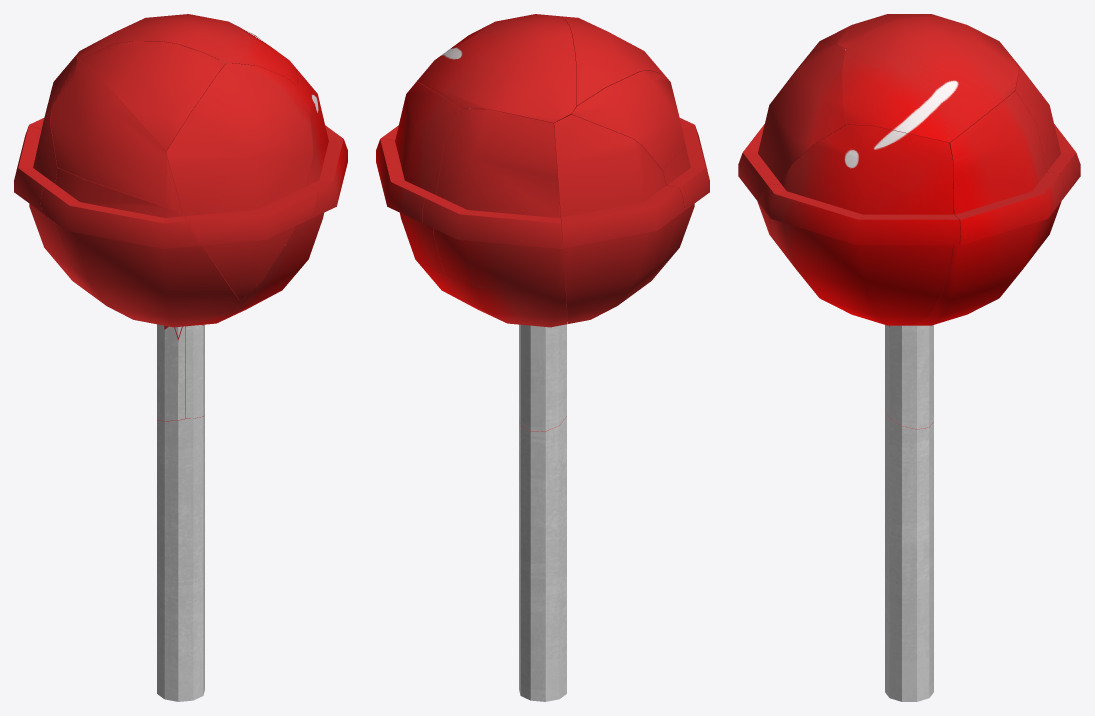
The model's file is JupaJubBreak.fbx.
3 views of the same model, side by side, from view 1: azimuth 30°, elevation 25°; view 2: azimuth 150°, elevation 25°; view 3: azimuth 270°, elevation 25° (orthographic).
Visible parts, largest first — view 1: Jupajub_cell.002, Jupajub_cell.003, Jupajub_cell.005, Jupajub_cell, Jupajub_cell.004, Jupajub_cell.007, Jupajub_cell.006, Jupajub_cell.001, Jupajub_cell.009, Jupajub_cell.008; view 2: Jupajub_cell.009, Jupajub_cell.001, Jupajub_cell.005, Jupajub_cell.006, Jupajub_cell.008, Jupajub_cell, Jupajub_cell.004, Jupajub_cell.003; view 3: Jupajub_cell.007, Jupajub_cell.008, Jupajub_cell.006, Jupajub_cell.005, Jupajub_cell.002, Jupajub_cell.009, Jupajub_cell.004.
Part boxes in pixels (x1=…): Jupajub_cell.002: x1=166, y1=63, x2=318, y2=300; Jupajub_cell.003: x1=40, y1=168, x2=239, y2=337; Jupajub_cell.005: x1=157, y1=414, x2=204, y2=701; Jupajub_cell: x1=50, y1=59, x2=182, y2=212; Jupajub_cell.004: x1=83, y1=41, x2=226, y2=151; Jupajub_cell.007: x1=212, y1=69, x2=347, y2=323; Jupajub_cell.006: x1=76, y1=14, x2=297, y2=85; Jupajub_cell.001: x1=14, y1=55, x2=95, y2=297; Jupajub_cell.009: x1=29, y1=118, x2=185, y2=421; Jupajub_cell.008: x1=185, y1=324, x2=204, y2=418; Jupajub_cell.009: x1=422, y1=108, x2=567, y2=431; Jupajub_cell.001: x1=554, y1=114, x2=684, y2=323; Jupajub_cell.005: x1=519, y1=416, x2=566, y2=701; Jupajub_cell.006: x1=417, y1=14, x2=576, y2=132; Jupajub_cell.008: x1=376, y1=81, x2=525, y2=427; Jupajub_cell: x1=571, y1=70, x2=685, y2=170; Jupajub_cell.004: x1=561, y1=16, x2=663, y2=107; Jupajub_cell.003: x1=641, y1=118, x2=709, y2=288; Jupajub_cell.007: x1=759, y1=125, x2=960, y2=325; Jupajub_cell.008: x1=885, y1=91, x2=1064, y2=429; Jupajub_cell.006: x1=842, y1=16, x2=1018, y2=142; Jupajub_cell.005: x1=885, y1=410, x2=933, y2=701; Jupajub_cell.002: x1=738, y1=45, x2=846, y2=240; Jupajub_cell.009: x1=931, y1=50, x2=1080, y2=423; Jupajub_cell.004: x1=807, y1=14, x2=942, y2=56.
Size of the model in its own units: 198 by 449 by 209.
